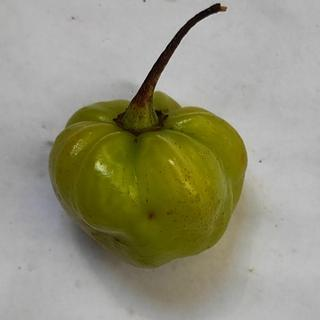Defect: (143, 206, 160, 227)
